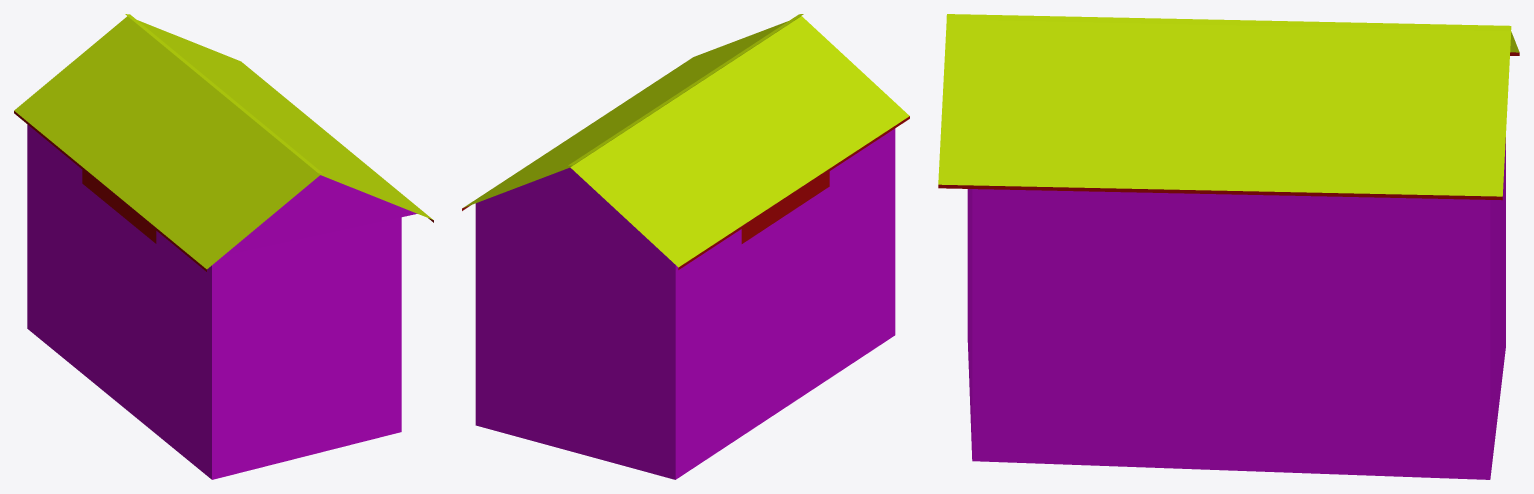
File: bgj_260.glb
3 views of the same model, side by side, from view 1: azimuth 30°, elevation 25°; view 2: azimuth 150°, elevation 25°; view 3: azimuth 270°, elevation 25° (orthographic). The views are drawn at different scales.
Parts seen in each view (by area): view 1: bgj_260; view 2: bgj_260; view 3: bgj_260.
Boxes of the visible parts, x1,y1,x2,y2 form: bgj_260: (14,14,433,479); bgj_260: (462,14,909,479); bgj_260: (938,14,1519,479).
Bounding box in the file's own units: 11.24 × 12.98 × 17.71.
